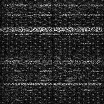lte: (1, 26, 104, 32), (1, 81, 104, 85)
